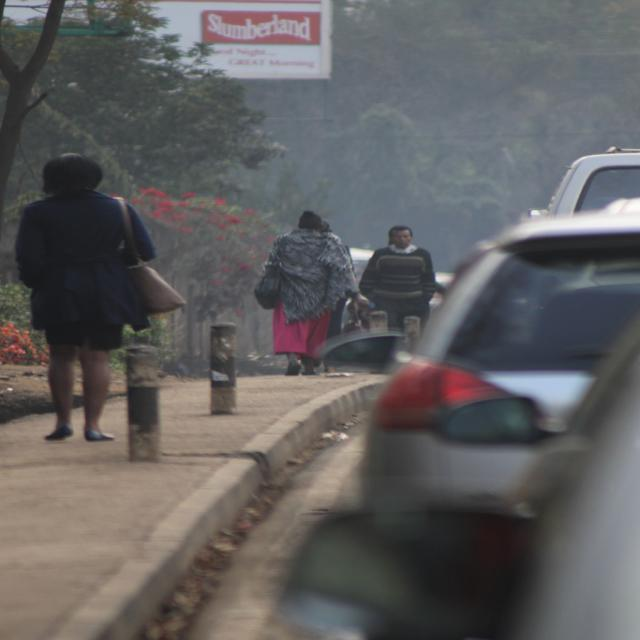other: (435, 322, 639, 640), (525, 146, 639, 218)
